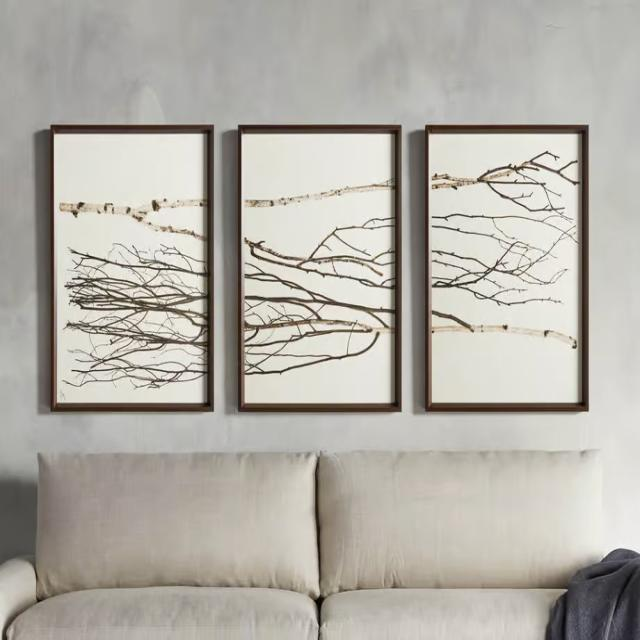painting: (51, 125, 214, 412), (427, 125, 590, 412), (239, 125, 401, 412)
